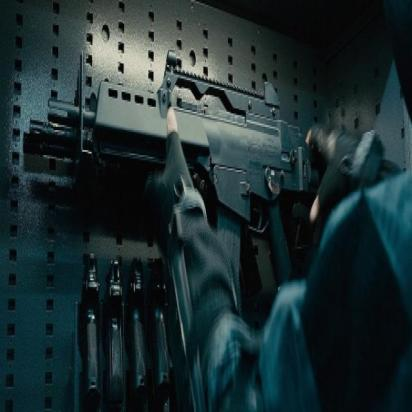Gun: (21, 41, 317, 285)
